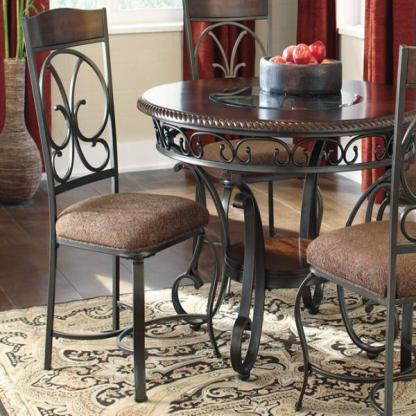chair: (22, 0, 167, 405), (292, 42, 416, 416), (181, 0, 321, 287)
table: (140, 54, 416, 379)
